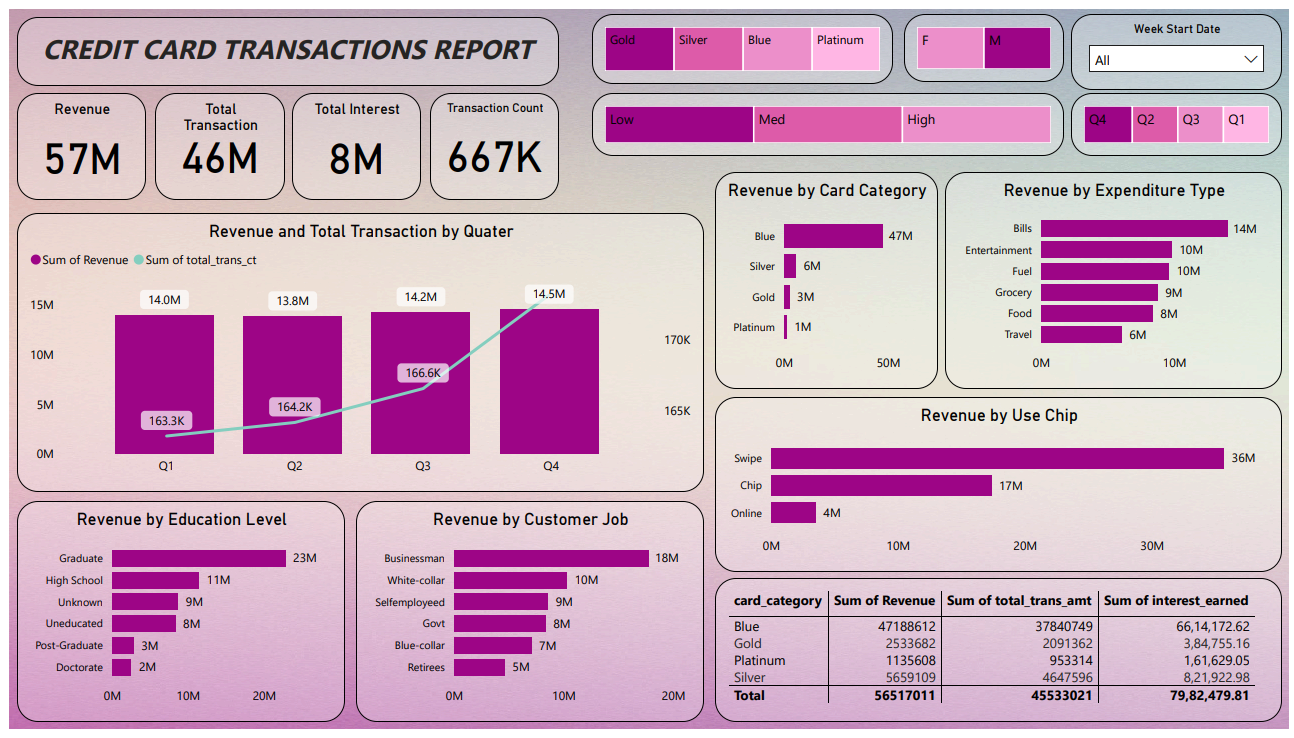

This screenshot's page, from the dashboard's own definition file:
{"tool":"powerbi","page":{"name":"CC Transaction","canvas":[1280,720],"ordinal":0},"visuals":[{"type":"textbox","box":[8.1,8.1,542.2,69.1],"z":1001},{"type":"lineStackedColumnComboChart","title":"Revenue and Total Transaction by Quater","fields":{"Category":["public cc_detail.qtr"],"Y":["Sum(public cc_detail.Revenue)"],"Y2":["Sum(public cc_detail.total_trans_ct)"]},"box":[8.1,203.8,686.8,279.2],"z":1002},{"type":"barChart","title":"Revenue by Expenditure Type","fields":{"Category":["public cc_detail.exp_type"],"Y":["Sum(public cc_detail.Revenue)"]},"box":[936.4,163.4,336.7,216.4],"z":1003},{"type":"barChart","title":"Revenue by Education Level","fields":{"Category":["public cust_detail.education_level"],"Y":["Sum(public cc_detail.Revenue)"]},"box":[8.1,492,327.7,220.8],"z":1004},{"type":"barChart","title":"Revenue by Card Category","fields":{"Category":["public cc_detail.card_category"],"Y":["Sum(public cc_detail.Revenue)"]},"box":[705.6,163.4,223.5,216.4],"z":1005},{"type":"barChart","title":"Revenue by Customer Job","fields":{"Category":["public cust_detail.customer_job"],"Y":["Sum(public cc_detail.Revenue)"]},"box":[347.4,492,347.4,220.8],"z":1006},{"type":"barChart","title":"Revenue by Use Chip","fields":{"Category":["public cc_detail.use_chip"],"Y":["Sum(public cc_detail.Revenue)"]},"box":[705.6,387.8,567.4,175.1],"z":1007},{"type":"tableEx","fields":{"Values":["public cc_detail.card_category","Sum(public cc_detail.Revenue)","Sum(public cc_detail.total_trans_amt)","Sum(public cc_detail.interest_earned)"]},"box":[705.6,569.2,567.4,143.6],"z":1008},{"type":"card","title":"Revenue","fields":{"Values":["Sum(public cc_detail.Revenue)"]},"box":[8.1,84.4,129.3,106.8],"z":1009},{"type":"card","title":"Total Transaction","fields":{"Values":["Sum(public cc_detail.total_trans_amt)"]},"box":[146.3,84.4,129.3,106.8],"z":1010},{"type":"card","title":"Total Interest","fields":{"Values":["Sum(public cc_detail.interest_earned)"]},"box":[282.8,84.4,129.3,106.8],"z":1011},{"type":"card","title":"Transaction Count","fields":{"Values":["Sum(public cc_detail.total_trans_ct)"]},"box":[421,84.4,129.3,106.8],"z":1012},{"type":"slicer","title":"Week Start Date","fields":{"Values":["public cc_detail.week_start_date"]},"box":[1062,5.4,211,75.4],"z":1013},{"type":"treemap","fields":{"Group":["public cc_detail.qtr"],"Values":["CountNonNull(public cc_detail.client_num)"]},"box":[1062,84.4,211,62.8],"z":1014},{"type":"treemap","fields":{"Values":["Avg(public cc_detail.client_num)"],"Group":["public cust_detail.gender"]},"box":[895.1,5.4,159.8,67.3],"z":1015},{"type":"treemap","fields":{"Values":["Avg(public cc_detail.client_num)"],"Group":["public cc_detail.card_category"]},"box":[582.6,5.4,301.6,69.1],"z":1016},{"type":"treemap","fields":{"Values":["Avg(public cc_detail.client_num)"],"Group":["public cust_detail.IncomeGroup"]},"box":[582.6,84.4,472.2,62.8],"z":1017}]}

Visuals, with their boxes in screenshot pixels (x1, y1, x2, y2), scaled from the page's 1280x720 canvas onto the 1294x738 screenshot:
textbox: 8:8:556:79
"Revenue and Total Transaction by Quater" lineStackedColumnComboChart: 8:209:703:495
"Revenue by Expenditure Type" barChart: 947:167:1287:389
"Revenue by Education Level" barChart: 8:504:339:731
"Revenue by Card Category" barChart: 713:167:939:389
"Revenue by Customer Job" barChart: 351:504:702:731
"Revenue by Use Chip" barChart: 713:397:1287:577
tableEx - public cc_detail.card_category x Sum(public cc_detail.Revenue): 713:583:1287:731
"Revenue" card: 8:87:139:196
"Total Transaction" card: 148:87:279:196
"Total Interest" card: 286:87:417:196
"Transaction Count" card: 426:87:556:196
"Week Start Date" slicer: 1074:6:1287:83
treemap - public cc_detail.qtr x CountNonNull(public cc_detail.client_num): 1074:87:1287:151
treemap - Avg(public cc_detail.client_num) x public cust_detail.gender: 905:6:1066:75
treemap - Avg(public cc_detail.client_num) x public cc_detail.card_category: 589:6:894:76
treemap - Avg(public cc_detail.client_num) x public cust_detail.IncomeGroup: 589:87:1066:151
